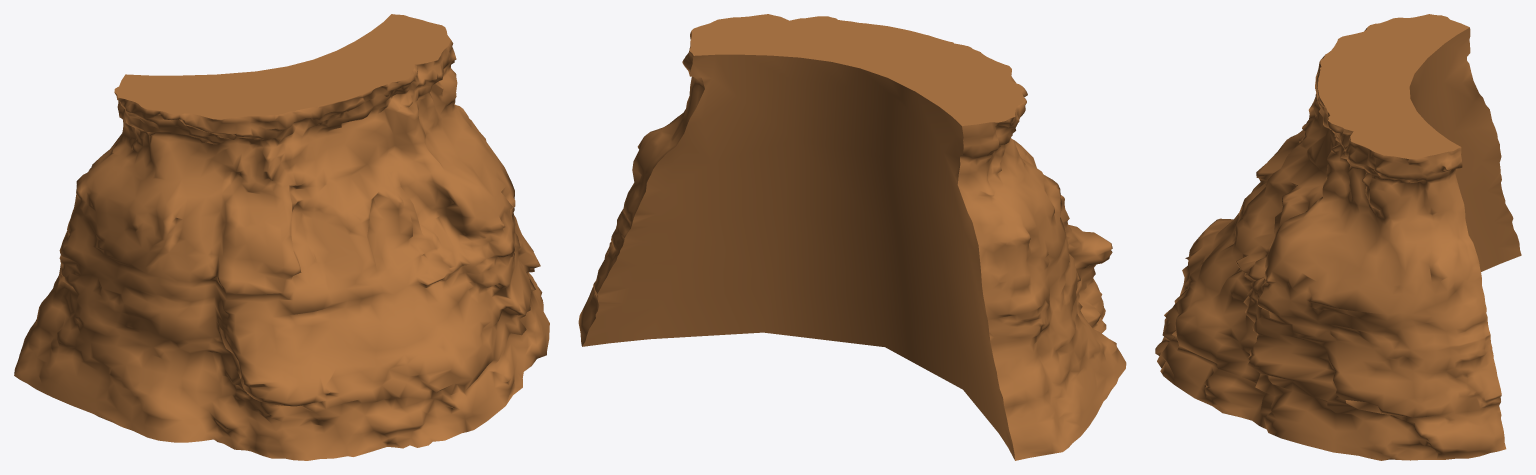
The model's file is MSH_Rocks_Cliff_25_c.FBX.
The picture shows the model from 3 angles, left to right: view 1: azimuth 30°, elevation 25°; view 2: azimuth 150°, elevation 25°; view 3: azimuth 270°, elevation 25°; orthographic projection. The views are drawn at different scales.
Parts seen in each view (by area): view 1: MESH_LOD0, CAP_LOD0; view 2: CAP_LOD0, MESH_LOD0; view 3: MESH_LOD0, CAP_LOD0.
Boxes of the visible parts, x1,y1,x2,y2 form: MESH_LOD0: (14,40,549,460); CAP_LOD0: (114,14,450,119); CAP_LOD0: (582,14,1025,459); MESH_LOD0: (578,31,1126,460); MESH_LOD0: (1155,28,1506,460); CAP_LOD0: (1318,14,1521,271).
Size of what is drawn, in the model's own units: 1176 by 661 by 831.
